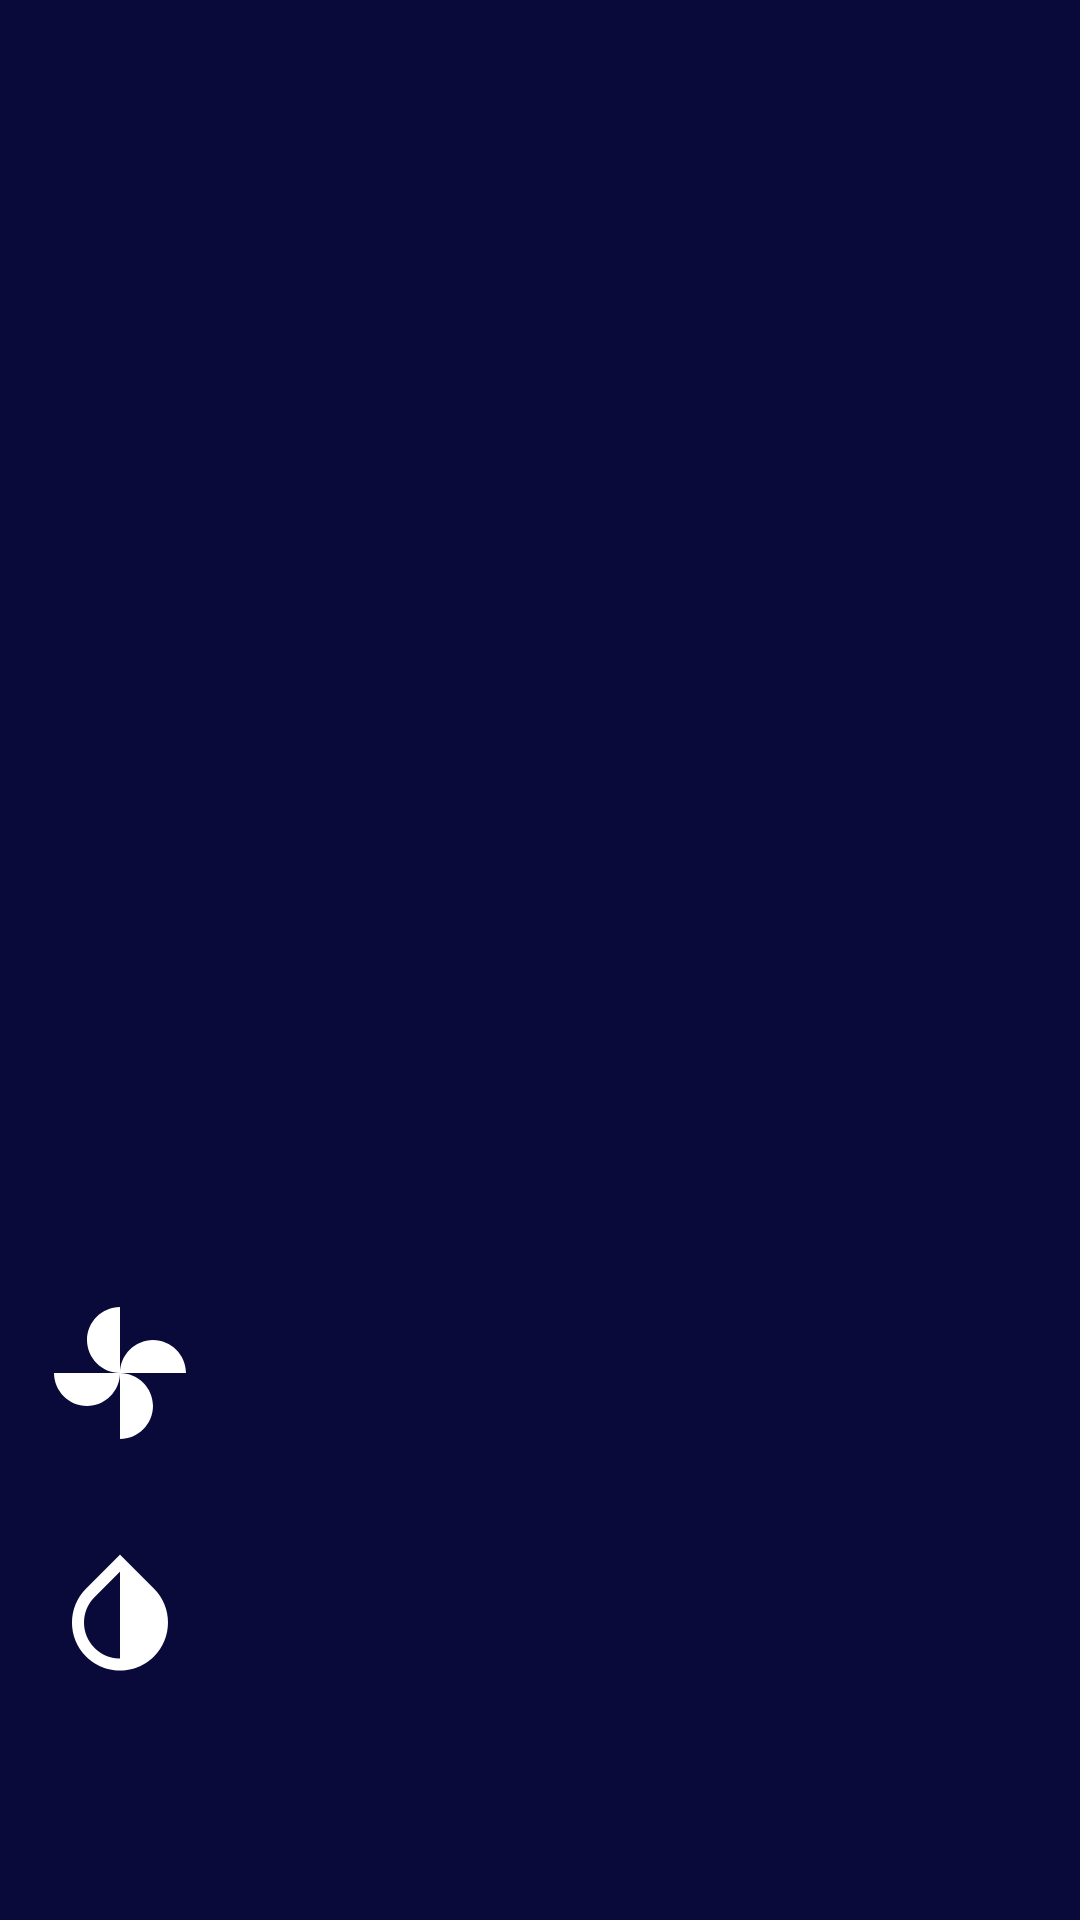

Named icons in this screenshot (1080×1920) and their centers, (x,y):
humidity: (120,1613)
wind: (120,1373)
